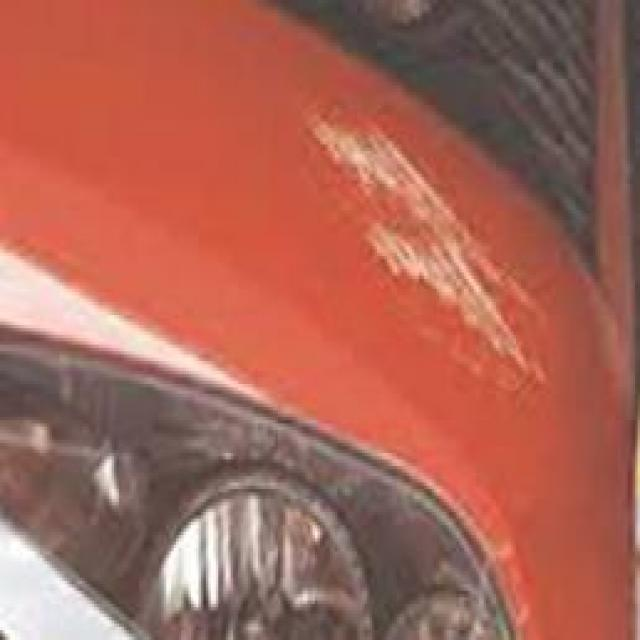scratch: (277, 92, 564, 404)
